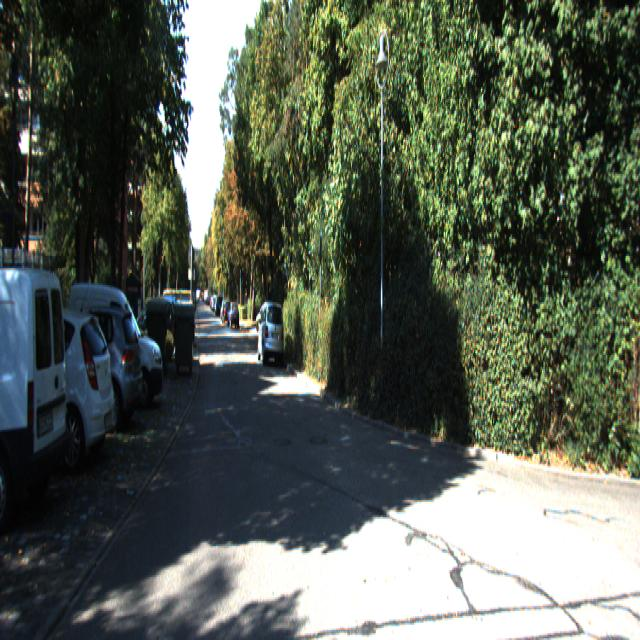Car: (0, 309, 118, 483), (0, 262, 71, 534), (26, 310, 144, 446), (68, 288, 164, 420), (257, 301, 285, 368)
DontCare: (201, 286, 239, 329)
